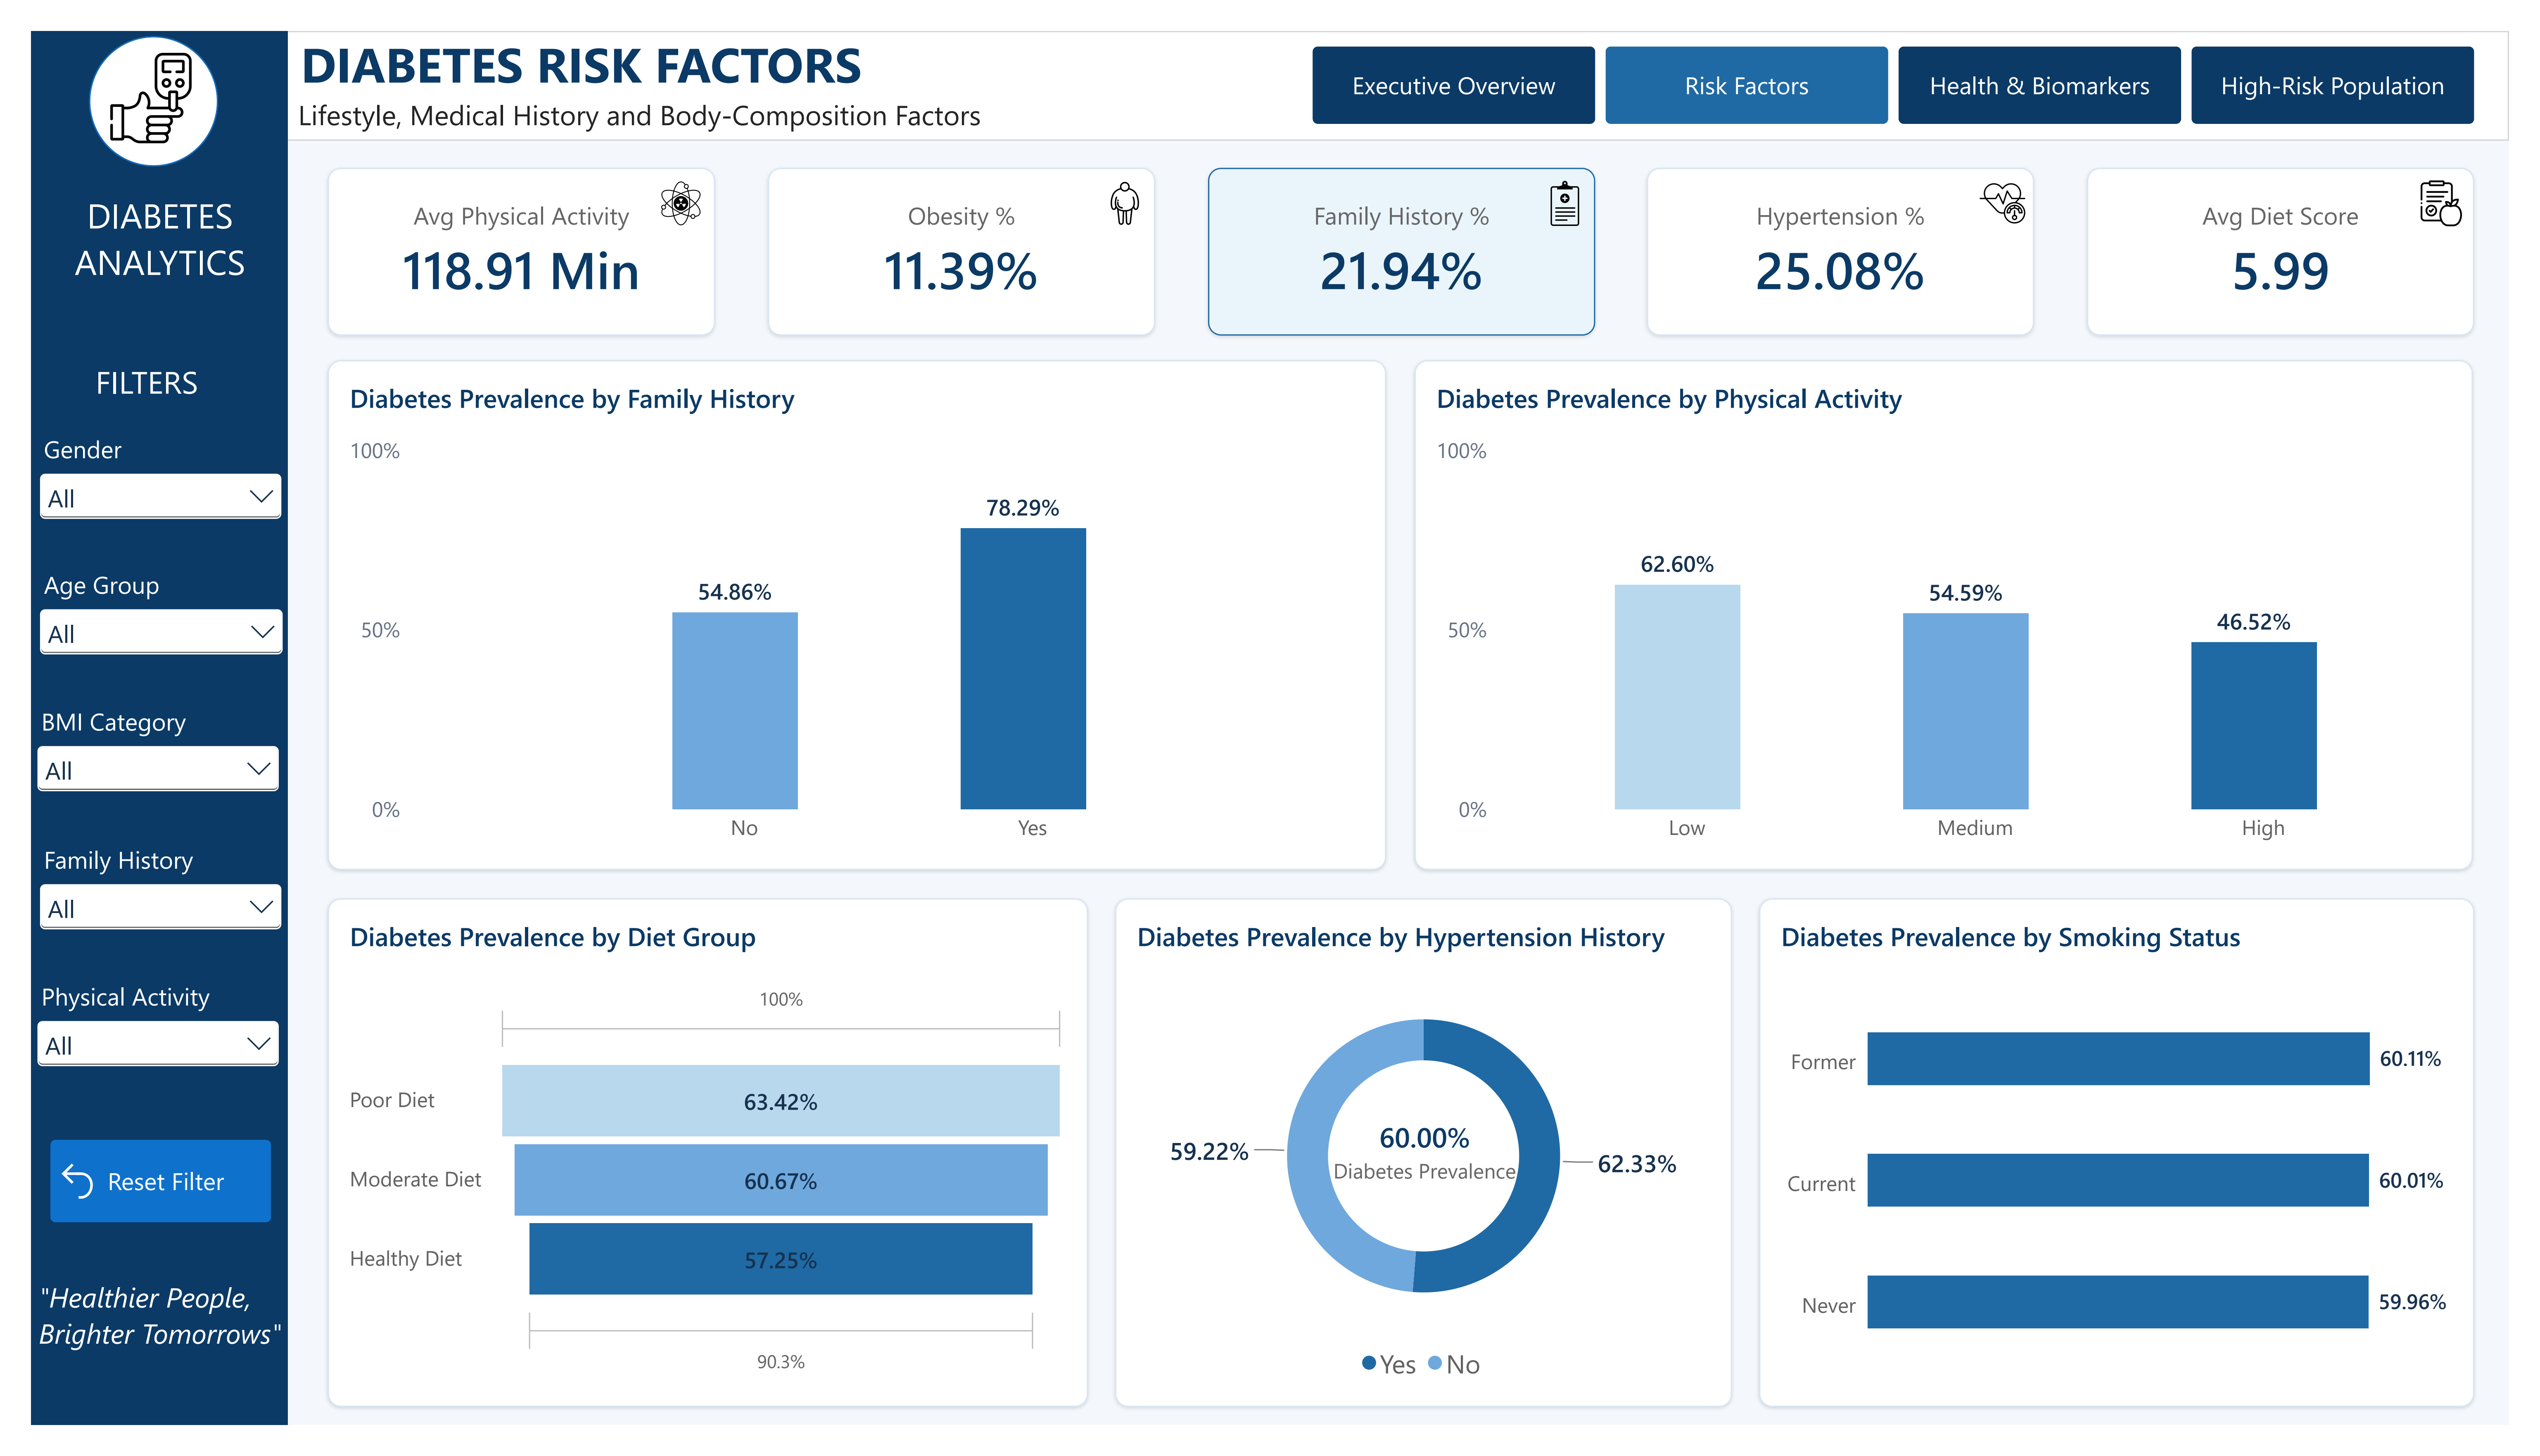

The dashboard page shown, as its layout file describes it:
{"tool":"powerbi","page":{"name":"Risk Factors","canvas":[1920,1080],"ordinal":1},"visuals":[{"type":"shape","box":[185.8,0,1734.2,85.2],"z":0},{"type":"shape","box":[0,0,199.4,1080],"z":1000},{"type":"cardVisual","fields":{"Data":["_Measures.Family History %"]},"box":[911.6,106.5,300,130],"z":2000},{"type":"cardVisual","fields":{"Data":["_Measures.Avg Physical Activity KPI"]},"box":[230.3,106.5,300,130],"z":3000},{"type":"cardVisual","fields":{"Data":["_Measures.Obesity %"]},"box":[571,106.5,300,130],"z":4000},{"type":"cardVisual","fields":{"Data":["_Measures.Avg Diet Score"]},"box":[1592.9,106.5,300,130],"z":5000},{"type":"cardVisual","fields":{"Data":["_Measures.Hypertension %"]},"box":[1252.3,106.5,300,130],"z":6000},{"type":"clusteredColumnChart","title":"Diabetes Prevalence by Family History","fields":{"Category":["DiabetesData.Family History Diabetes Group"],"Y":["_Measures.Diabetes Prevalence"]},"box":[230.3,255.5,820,395],"z":7000},{"type":"textbox","box":[209,0,687.1,50.3],"z":8000},{"type":"textbox","box":[207.1,50.3,611.6,35],"z":9000},{"type":"clusteredColumnChart","title":"Diabetes Prevalence by Physical Activity","fields":{"Category":["DiabetesData.Physical Activity Group"],"Y":["_Measures.Diabetes Prevalence"]},"box":[1072.3,255.5,820,395],"z":10000},{"type":"funnel","title":"Diabetes Prevalence by Diet Group","fields":{"Category":["DiabetesData.Diet Group"],"Y":["_Measures.Diabetes Prevalence"]},"box":[230.3,671.6,588.4,394.8],"z":11000},{"type":"clusteredBarChart","title":"Diabetes Prevalence by Smoking Status","fields":{"Category":["DiabetesData.smoking_status"],"Y":["_Measures.Diabetes Prevalence"]},"box":[1339.4,671.6,553.5,394.8],"z":12000},{"type":"slicer","fields":{"Values":["DiabetesData.gender"]},"box":[1.9,311.3,197.4,71.6],"z":13000},{"type":"slicer","fields":{"Values":["DiabetesData.Age Group"]},"box":[2.1,416.2,198.2,72.3],"z":14000},{"type":"slicer","fields":{"Values":["DiabetesData.BMI GROUP"]},"box":[0,521.8,197.4,73.5],"z":15000},{"type":"slicer","fields":{"Values":["DiabetesData.Family History Diabetes Group"]},"box":[1.9,628.6,197.4,73.5],"z":16000},{"type":"actionButton","box":[15.5,859.4,170.3,63.9],"z":17000},{"type":"textbox","box":[5.8,965.8,195.5,65.8],"z":18000},{"type":"shape","box":[44.5,3.9,100.6,100.6],"z":19000},{"type":"pageNavigator","box":[992.9,11.6,900,60],"z":20000},{"type":"textbox","box":[50.3,255.5,85.2,32],"z":21000},{"type":"image","box":[58.1,17.4,69.7,69.7],"z":22000},{"type":"textbox","box":[9.7,123.9,180,94.8],"z":23000},{"type":"donutChart","title":"Diabetes Prevalence by Hypertension History","fields":{"Category":["DiabetesData.Hypertension History Group"],"Y":["_Measures.Diabetes Prevalence"]},"box":[840,671.6,478.1,394.8],"z":24000},{"type":"slicer","fields":{"Values":["DiabetesData.Physical Activity Group"]},"box":[0,735.5,197.4,73.5],"z":25000},{"type":"cardVisual","fields":{"Data":["_Measures.Diabetes Prevalence"]},"box":[975.5,820.6,209,94.8],"z":25001},{"type":"image","box":[485.8,116.1,34.8,34.8],"z":25002},{"type":"image","box":[1171,116.1,34.8,34.8],"z":25003},{"type":"image","box":[830.3,116.1,35,35],"z":25004},{"type":"image","box":[1509.7,116.1,34.8,34.8],"z":25005},{"type":"image","box":[1850.3,116.1,34.8,34.8],"z":25006}]}

Visuals, with their boxes on the page's 1920x1080 design canvas (x1, y1, x2, y2). These are canvas units, not pixel positions in the 2540x1456 screenshot, which may show the page scaled, cropped or inside an application window:
shape: box=[186, 0, 1920, 85]
shape: box=[0, 0, 199, 1080]
cardVisual - _Measures.Family History %: box=[912, 106, 1212, 236]
cardVisual - _Measures.Avg Physical Activity KPI: box=[230, 106, 530, 236]
cardVisual - _Measures.Obesity %: box=[571, 106, 871, 236]
cardVisual - _Measures.Avg Diet Score: box=[1593, 106, 1893, 236]
cardVisual - _Measures.Hypertension %: box=[1252, 106, 1552, 236]
"Diabetes Prevalence by Family History" clusteredColumnChart: box=[230, 256, 1050, 650]
textbox: box=[209, 0, 896, 50]
textbox: box=[207, 50, 819, 85]
"Diabetes Prevalence by Physical Activity" clusteredColumnChart: box=[1072, 256, 1892, 650]
"Diabetes Prevalence by Diet Group" funnel: box=[230, 672, 819, 1066]
"Diabetes Prevalence by Smoking Status" clusteredBarChart: box=[1339, 672, 1893, 1066]
slicer - DiabetesData.gender: box=[2, 311, 199, 383]
slicer - DiabetesData.Age Group: box=[2, 416, 200, 488]
slicer - DiabetesData.BMI GROUP: box=[0, 522, 197, 595]
slicer - DiabetesData.Family History Diabetes Group: box=[2, 629, 199, 702]
actionButton: box=[16, 859, 186, 923]
textbox: box=[6, 966, 201, 1032]
shape: box=[44, 4, 145, 104]
pageNavigator: box=[993, 12, 1893, 72]
textbox: box=[50, 256, 136, 288]
image: box=[58, 17, 128, 87]
textbox: box=[10, 124, 190, 219]
"Diabetes Prevalence by Hypertension History" donutChart: box=[840, 672, 1318, 1066]
slicer - DiabetesData.Physical Activity Group: box=[0, 736, 197, 809]
cardVisual - _Measures.Diabetes Prevalence: box=[976, 821, 1184, 915]
image: box=[486, 116, 521, 151]
image: box=[1171, 116, 1206, 151]
image: box=[830, 116, 865, 151]
image: box=[1510, 116, 1544, 151]
image: box=[1850, 116, 1885, 151]
